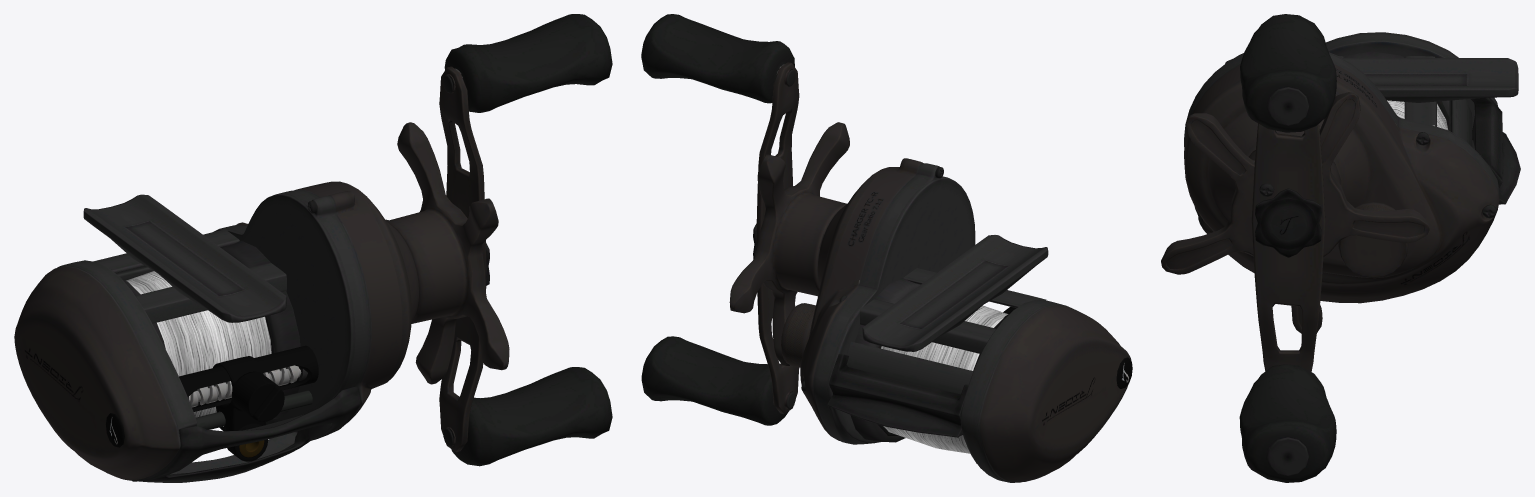
Rendered from bclp_5006.glb.
3 views of the same model, side by side, from view 1: azimuth 30°, elevation 25°; view 2: azimuth 150°, elevation 25°; view 3: azimuth 270°, elevation 25° (orthographic). The views are drawn at different scales.
Parts seen in each view (by area): view 1: bclp_5006_body_mesh, bclp_5006_zvezda_mesh, bclp_5006_rukoyat_down_mesh, bclp_5006_rukoyat_up_mesh, bclp_5006_shpindel_mesh, bclp_leska_mesh, bclp_5006_lesoukladchik_mesh, bclp_5006_worm_kit_mesh; view 2: bclp_5006_body_mesh, bclp_5006_zvezda_mesh, bclp_5006_rukoyat_down_mesh, bclp_5006_rukoyat_up_mesh, bclp_5006_fixator_mesh, bclp_5006_shpindel_mesh, bclp_leska_mesh, bclp_5006_os_friction_mesh; view 3: bclp_5006_body_mesh, bclp_5006_shpindel_mesh, bclp_5006_zvezda_mesh, bclp_5006_rukoyat_down_mesh, bclp_5006_rukoyat_up_mesh, bclp_5006_fixator_mesh, bclp_5006_os_friction_mesh, bclp_leska_mesh.
Boxes of the visible parts, bbox=[...] form: bclp_5006_body_mesh: bbox=[14, 181, 418, 482]; bclp_5006_zvezda_mesh: bbox=[385, 122, 509, 384]; bclp_5006_rukoyat_down_mesh: bbox=[444, 14, 612, 112]; bclp_5006_rukoyat_up_mesh: bbox=[451, 367, 612, 466]; bclp_5006_shpindel_mesh: bbox=[439, 66, 489, 452]; bclp_leska_mesh: bbox=[126, 271, 271, 417]; bclp_5006_lesoukladchik_mesh: bbox=[213, 356, 284, 461]; bclp_5006_worm_kit_mesh: bbox=[188, 365, 307, 407]; bclp_5006_body_mesh: bbox=[800, 158, 1132, 482]; bclp_5006_zvezda_mesh: bbox=[729, 122, 849, 365]; bclp_5006_rukoyat_down_mesh: bbox=[641, 14, 794, 103]; bclp_5006_rukoyat_up_mesh: bbox=[641, 336, 788, 425]; bclp_5006_fixator_mesh: bbox=[827, 353, 968, 437]; bclp_5006_shpindel_mesh: bbox=[753, 62, 799, 414]; bclp_leska_mesh: bbox=[881, 305, 1008, 453]; bclp_5006_os_friction_mesh: bbox=[781, 303, 815, 367]; bclp_5006_body_mesh: bbox=[1184, 32, 1518, 303]; bclp_5006_shpindel_mesh: bbox=[1251, 123, 1325, 371]; bclp_5006_zvezda_mesh: bbox=[1161, 92, 1429, 333]; bclp_5006_rukoyat_down_mesh: bbox=[1240, 14, 1336, 132]; bclp_5006_rukoyat_up_mesh: bbox=[1239, 364, 1336, 482]; bclp_5006_fixator_mesh: bbox=[1471, 97, 1520, 204]; bclp_5006_os_friction_mesh: bbox=[1338, 202, 1408, 277]; bclp_leska_mesh: bbox=[1387, 100, 1447, 129].
Size of the model in its own units: 0.1206 by 0.0954 by 0.0756.
3 materials, 3 textured.
